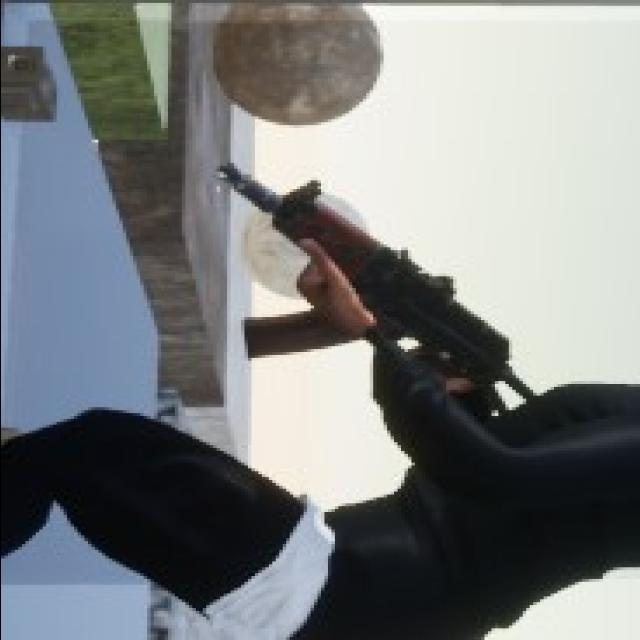rifle: (212, 164, 540, 408)
